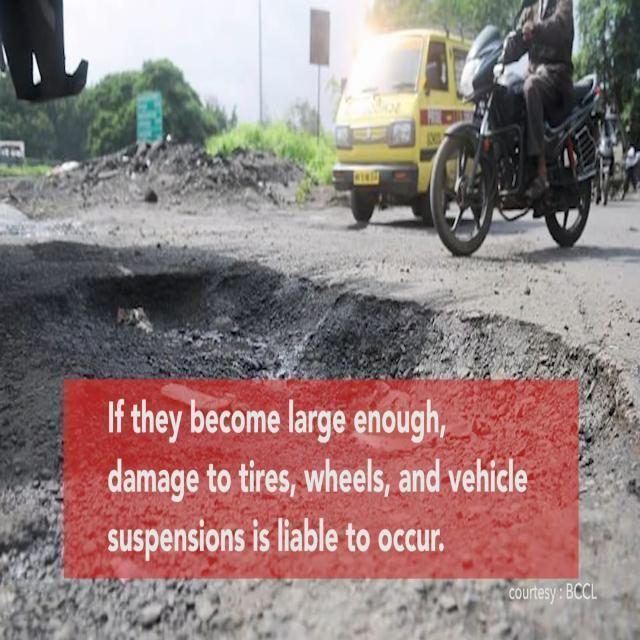Pothole: (16, 272, 619, 501)
